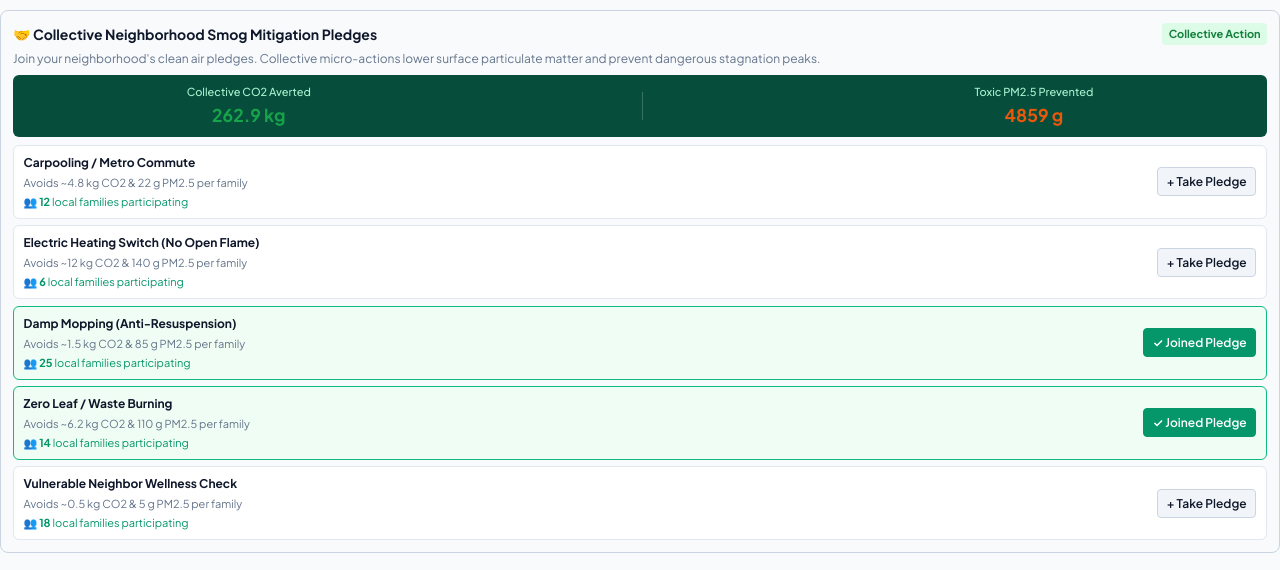
Scientific & Accessible Components Suite › CommunityPledges (Collective Action & Offset Counter) › renders pledge categories and updates collective offsets on participation toggle
expect the heading "🤝 Collective Neighborhood Smog Mitigation Pledges" is shown: met, box left=13, top=23, right=377, bottom=45
expect the text "Collective CO2 Averted" is shown: met, box left=187, top=83, right=311, bottom=101
Click the button "+ Take Pledge" in the row of "Carpooling / Metro Commute" at {"x": 1207, "y": 182}, box left=1157, top=167, right=1256, bottom=196
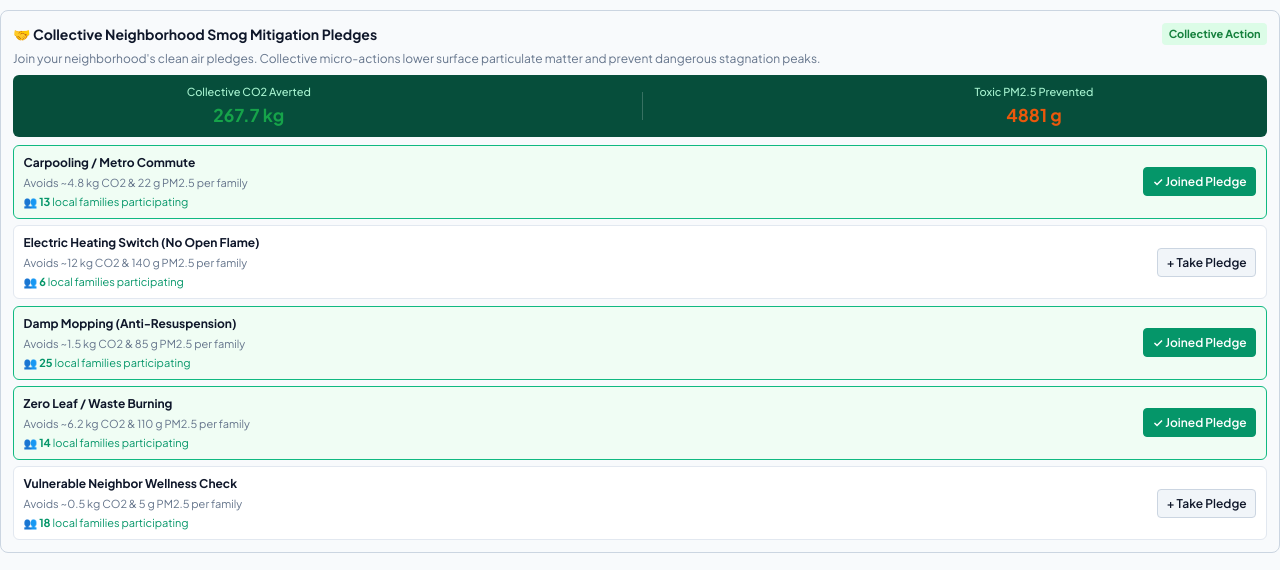
expect the text "+ Take Pledge" is gone: met
